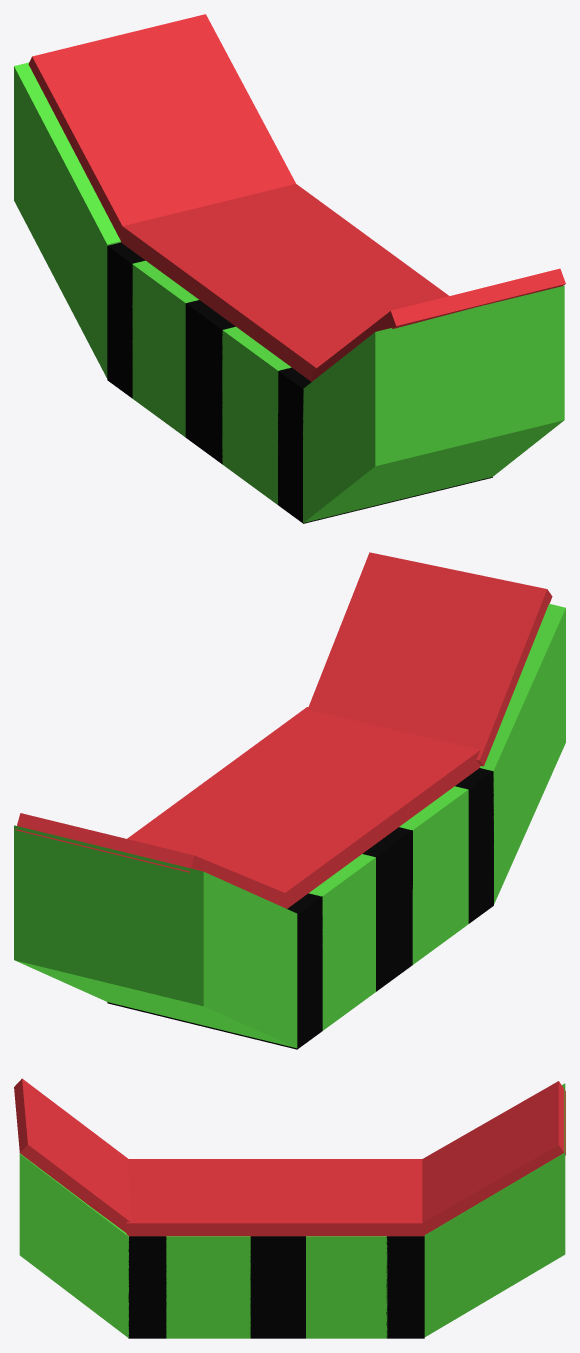
File: watermelon.fbx
3 views of the same model, one above another, from view 1: azimuth 30°, elevation 25°; view 2: azimuth 150°, elevation 25°; view 3: azimuth 270°, elevation 25° (orthographic). The views are drawn at different scales.
Visible parts, largest first — view 1: Cube.004, Cube.001; view 2: Cube.004, Cube.001; view 3: Cube.004, Cube.001.
Part boxes in pixels (box(x1,y1,x2,y2)): Cube.004: box(14, 62, 564, 523); Cube.001: box(28, 14, 565, 381); Cube.004: box(14, 603, 565, 1049); Cube.001: box(15, 552, 552, 908); Cube.004: box(19, 1083, 565, 1338); Cube.001: box(14, 1078, 565, 1236).
Size of the model in its own units: 83.43 by 109 by 277.
